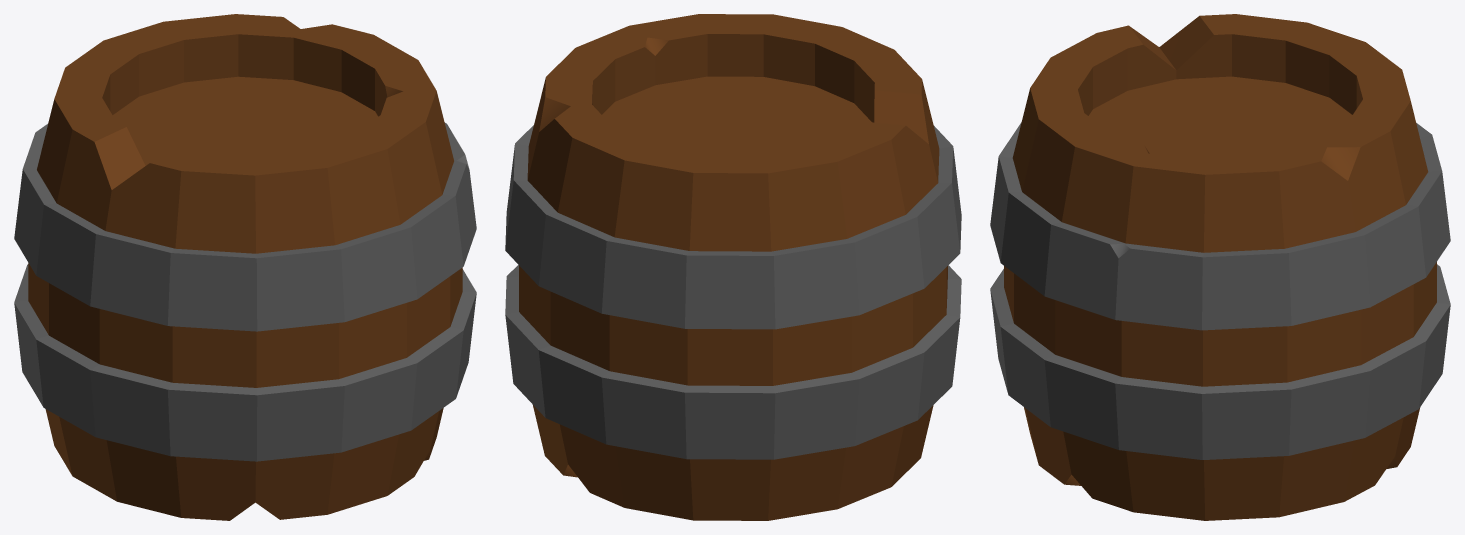
The model's file is Barrel.fbx.
3 views of the same model, side by side, from view 1: azimuth 30°, elevation 25°; view 2: azimuth 150°, elevation 25°; view 3: azimuth 270°, elevation 25° (orthographic).
Parts seen in each view (by area): view 1: Cylinder.004; view 2: Cylinder.004; view 3: Cylinder.004.
Part boxes in pixels (x1,y1,x2,y2): Cylinder.004: (14,14,476,520); Cylinder.004: (505,14,961,520); Cylinder.004: (990,14,1450,520).
Bounding box in the file's own units: 241 × 200 × 241.
